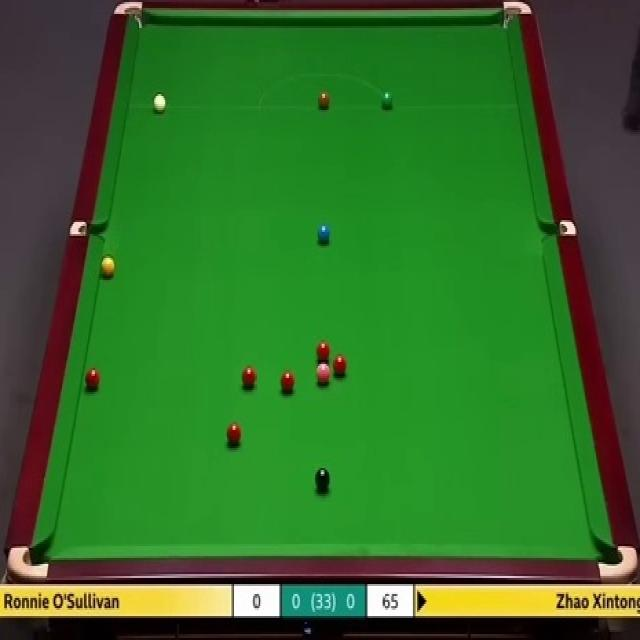black-ball: (314, 468, 331, 491)
blue-ball: (316, 222, 330, 246)
brown-ball: (318, 88, 330, 108)
green-ball: (382, 92, 392, 110)
pink-ball: (315, 362, 330, 384)
red-ball: (84, 368, 102, 392), (332, 354, 347, 380), (226, 423, 242, 447), (280, 371, 295, 394), (240, 367, 257, 387), (316, 342, 331, 362)
white-ball: (152, 92, 166, 116)
yellow-ball: (100, 256, 114, 276)
